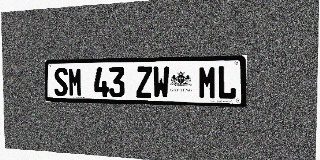3: (109, 67, 125, 97)
4: (94, 67, 109, 97)
L: (217, 65, 236, 100)
M: (198, 66, 217, 99), (68, 67, 82, 97)
S: (54, 68, 68, 96)
W: (153, 66, 169, 98)
Z: (136, 66, 152, 98)
